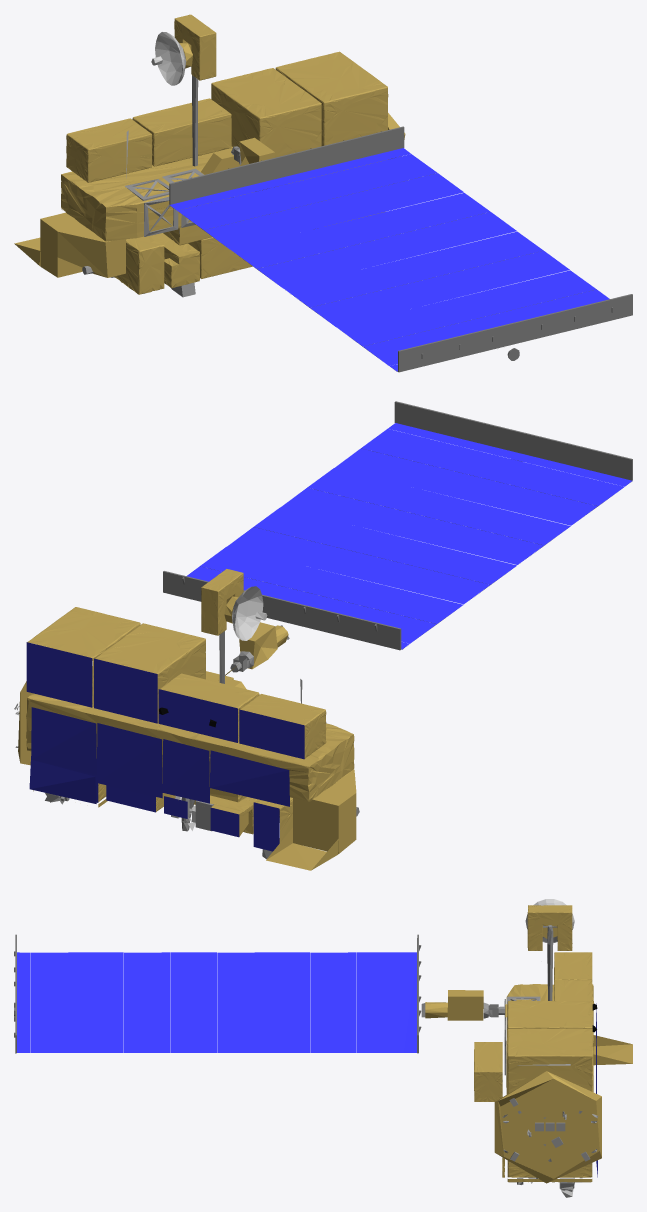
The model's file is terra.glb.
The picture shows the model from 3 angles, top to bottom: view 1: azimuth 30°, elevation 25°; view 2: azimuth 150°, elevation 25°; view 3: azimuth 270°, elevation 25°; orthographic projection. The views are drawn at different scales.
Visible parts, largest first — view 1: Terra_vFINAL [Layer17], Terra_vFINAL [Layer16], Terra_vFINAL [Layer1], Terra_vFINAL [Layer13], Terra_vFINAL [Layer18], Terra_vFINAL [Layer2], Terra_vFINAL [Layer11], Terra_vFINAL [Layer12], Terra_vFINAL [Layer19], Terra_vFINAL [Layer3], Terra_vFINAL [Layer9], Terra_vFINAL [Layer4] (+2 smaller); view 2: Terra_vFINAL [Layer17], Terra_vFINAL [Layer15], Terra_vFINAL [Layer16], Terra_vFINAL [Layer18], Terra_vFINAL [Layer1], Terra_vFINAL [Layer13], Terra_vFINAL [Layer2], Terra_vFINAL [Layer11], Terra_vFINAL [Layer9], Terra_vFINAL [Layer12], Terra_vFINAL [Layer19], Terra_vFINAL [Layer20]; view 3: Terra_vFINAL [Layer17], Terra_vFINAL [Layer18], Terra_vFINAL [Layer2], Terra_vFINAL [Layer13], Terra_vFINAL [Layer19], Terra_vFINAL [Layer9], Terra_vFINAL [Layer10], Terra_vFINAL [Layer11], Terra_vFINAL [Layer1], Terra_vFINAL [Layer12], Terra_vFINAL [Layer16], Terra_vFINAL [Layer6].
Boxes of the visible parts, x1,y1,x2,y2 form: Terra_vFINAL [Layer17]: (170, 148, 609, 371); Terra_vFINAL [Layer16]: (169, 126, 632, 372); Terra_vFINAL [Layer1]: (61, 146, 381, 245); Terra_vFINAL [Layer13]: (211, 68, 321, 157); Terra_vFINAL [Layer18]: (14, 43, 405, 277); Terra_vFINAL [Layer2]: (275, 51, 388, 145); Terra_vFINAL [Layer11]: (66, 118, 152, 182); Terra_vFINAL [Layer12]: (132, 98, 231, 166); Terra_vFINAL [Layer19]: (82, 75, 251, 297); Terra_vFINAL [Layer3]: (114, 235, 164, 294); Terra_vFINAL [Layer9]: (174, 14, 216, 80); Terra_vFINAL [Layer4]: (152, 233, 199, 288); Terra_vFINAL [Layer17]: (186, 423, 632, 649); Terra_vFINAL [Layer15]: (26, 642, 304, 851); Terra_vFINAL [Layer16]: (163, 401, 632, 650); Terra_vFINAL [Layer18]: (18, 596, 356, 870); Terra_vFINAL [Layer1]: (26, 677, 354, 802); Terra_vFINAL [Layer13]: (95, 623, 205, 722); Terra_vFINAL [Layer2]: (27, 607, 140, 706); Terra_vFINAL [Layer11]: (240, 694, 326, 758); Terra_vFINAL [Layer9]: (201, 569, 243, 635); Terra_vFINAL [Layer12]: (159, 673, 259, 741); Terra_vFINAL [Layer19]: (14, 631, 359, 858); Terra_vFINAL [Layer20]: (232, 586, 267, 640); Terra_vFINAL [Layer17]: (17, 952, 416, 1052); Terra_vFINAL [Layer18]: (425, 925, 632, 1183); Terra_vFINAL [Layer2]: (507, 1028, 592, 1093); Terra_vFINAL [Layer13]: (507, 1001, 592, 1031); Terra_vFINAL [Layer19]: (483, 925, 598, 1184); Terra_vFINAL [Layer9]: (527, 905, 572, 950); Terra_vFINAL [Layer10]: (474, 1042, 502, 1101); Terra_vFINAL [Layer11]: (554, 952, 592, 1000); Terra_vFINAL [Layer1]: (506, 984, 593, 1094); Terra_vFINAL [Layer12]: (554, 980, 592, 1000); Terra_vFINAL [Layer16]: (14, 934, 425, 1053); Terra_vFINAL [Layer6]: (507, 1161, 592, 1177).
Bounding box in the file's own units: 13601 × 10277 × 26054.
